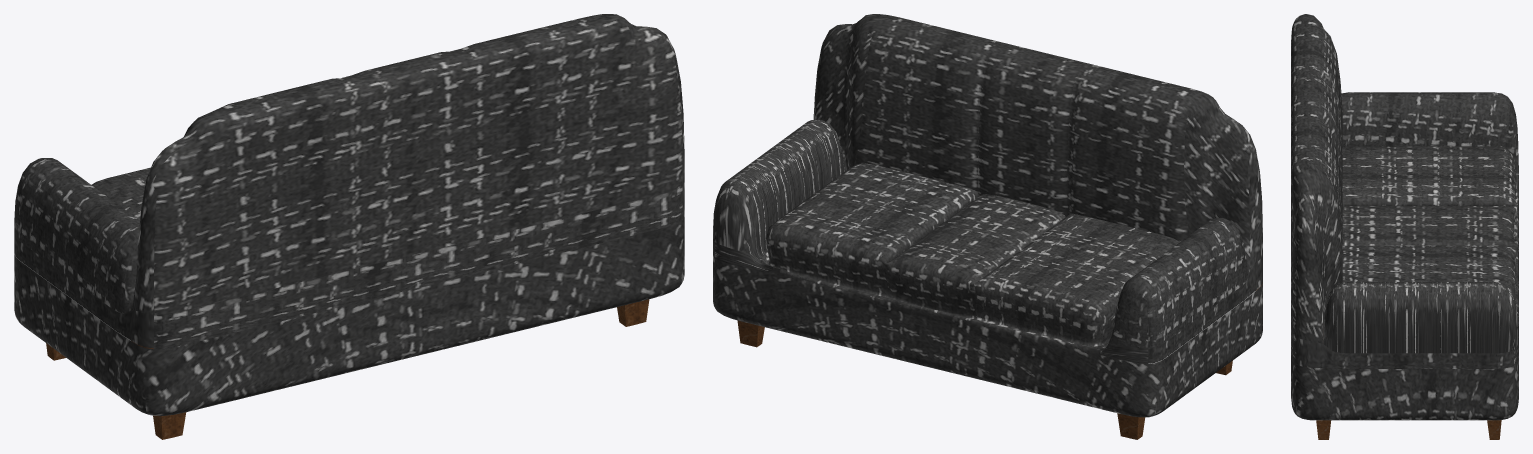
Rendered from Couch.fbx.
3 renders of one model, left to right at view 1: azimuth 30°, elevation 25°; view 2: azimuth 150°, elevation 25°; view 3: azimuth 270°, elevation 25°, orthographic. The views are drawn at different scales.
Parts seen in each view (by area): view 1: Box001; view 2: Box001; view 3: Box001.
Boxes of the visible parts, box(x1,y1,x2,y2) form: Box001: box(14, 14, 684, 439); Box001: box(713, 14, 1262, 439); Box001: box(1291, 14, 1518, 439).
Bounding box in the file's own units: 175 × 98.59 × 80.04.
